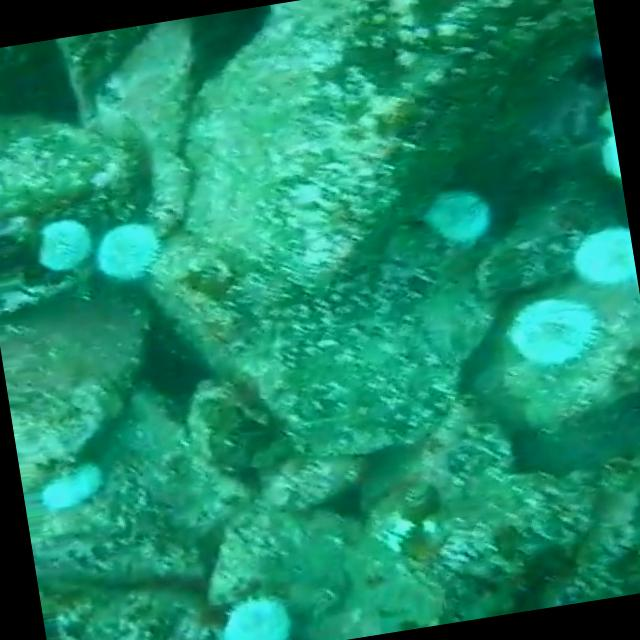Deniz Kestanesi: (500, 288, 606, 378), (405, 184, 502, 259), (86, 206, 170, 285), (27, 454, 118, 523), (562, 217, 638, 295), (26, 208, 94, 282), (205, 587, 298, 640)
